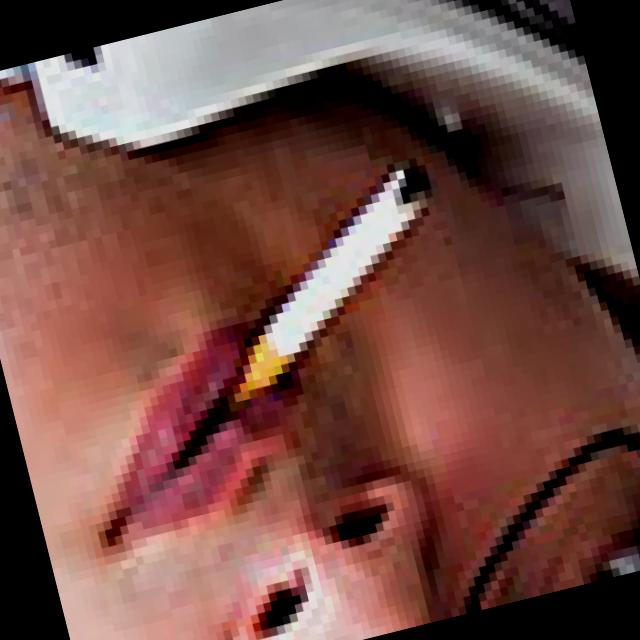cigarette: (188, 150, 474, 404)
